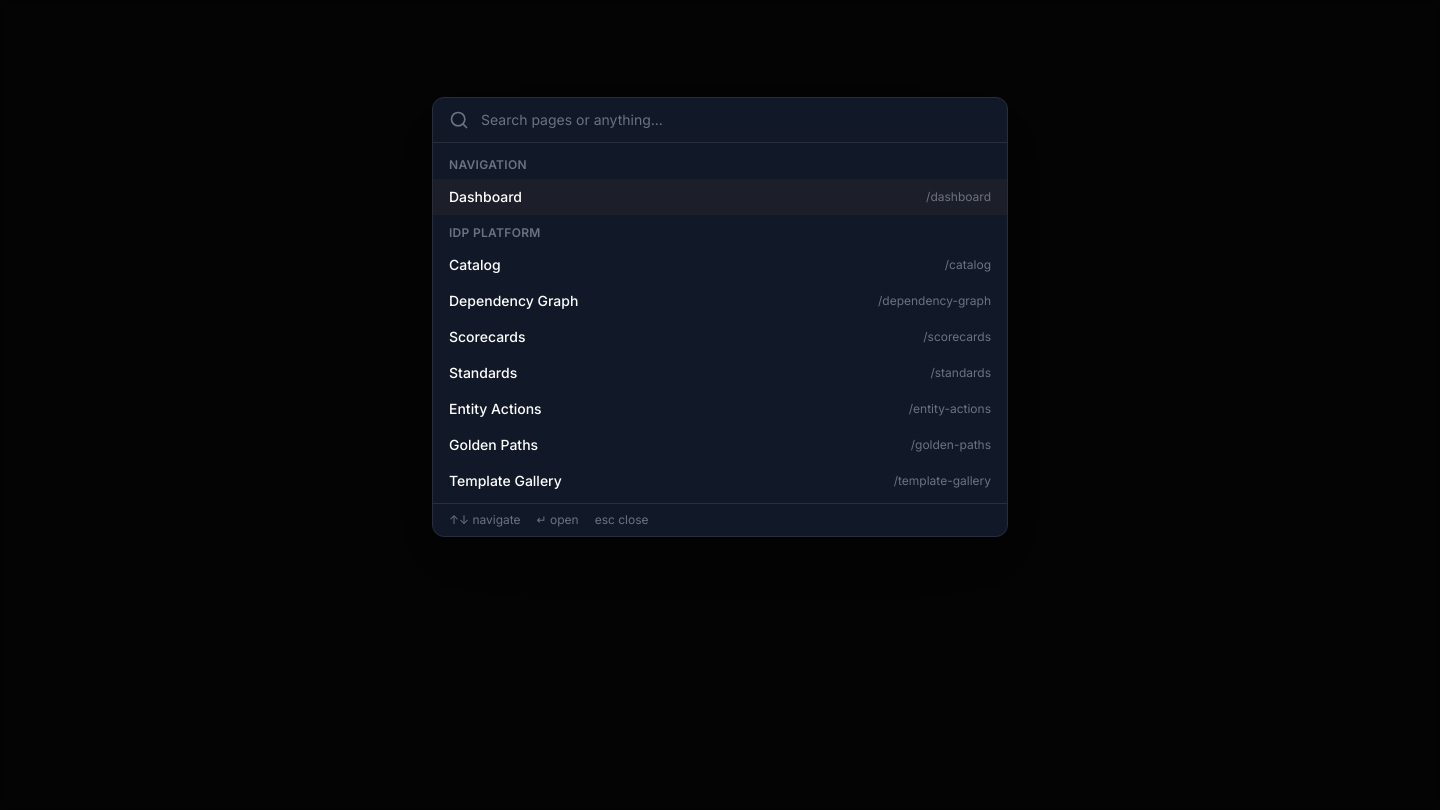
CommandPalette search › shows Workspace and Agent groups from the backend search endpoint
Type "incident" into the field with placeholder "Search pages or anything...". click: point(736, 120)
box: [481,110,991,130]
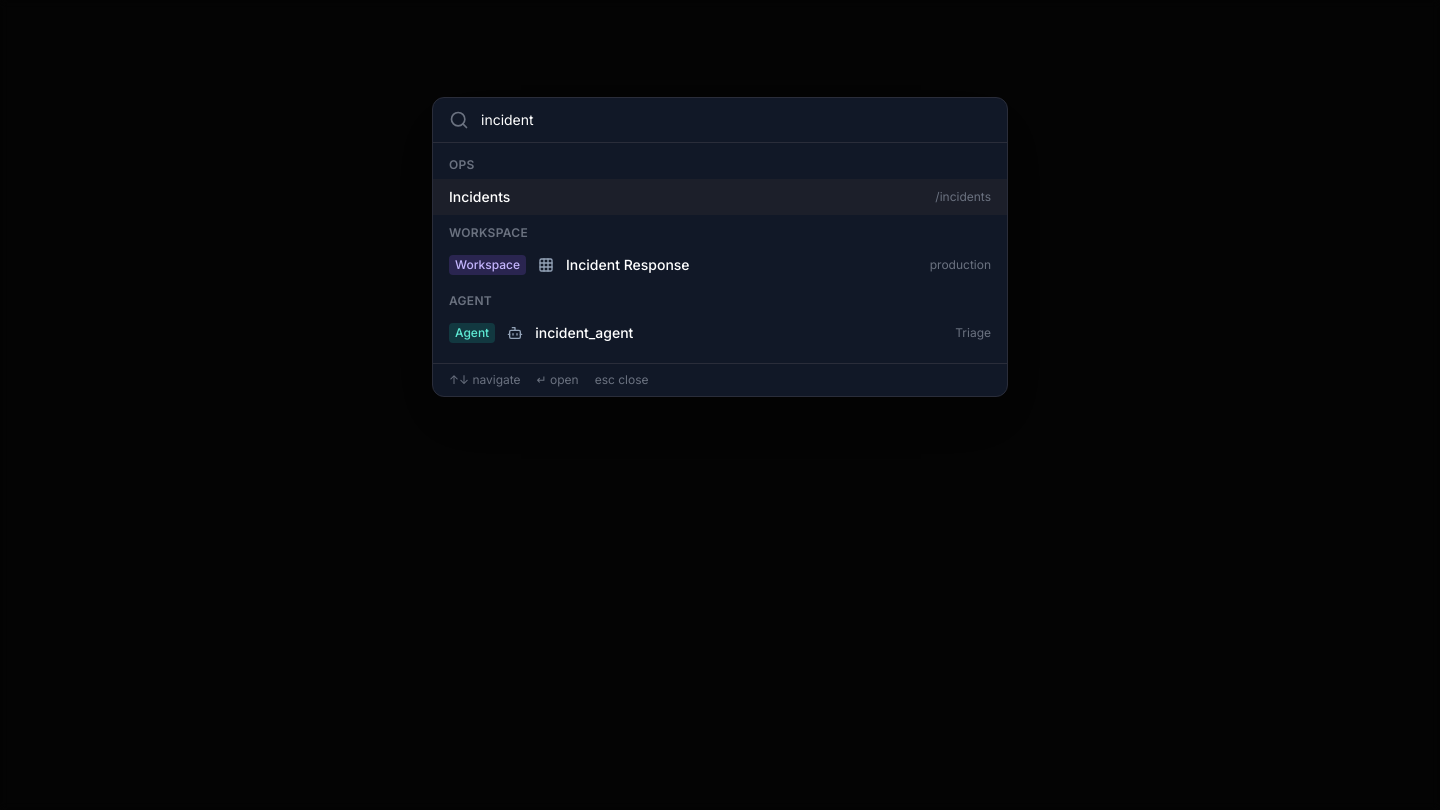
Now the 1st text "Workspace" is shown, box [449,225,528,240]
Now the 1st text "Agent" is shown, box [449,293,492,308]
Now the text "Incident Response" is shown, box [566,256,690,273]
